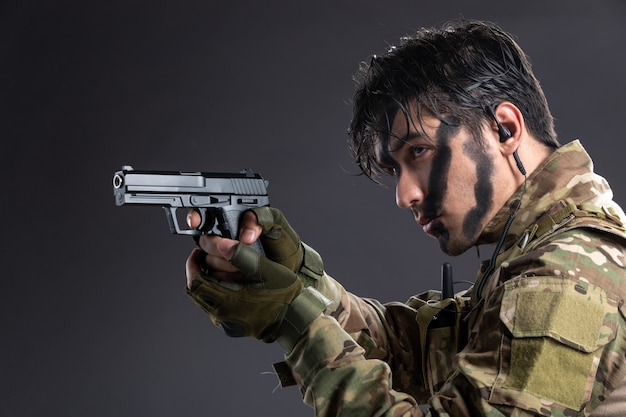gun: (113, 164, 273, 262)
